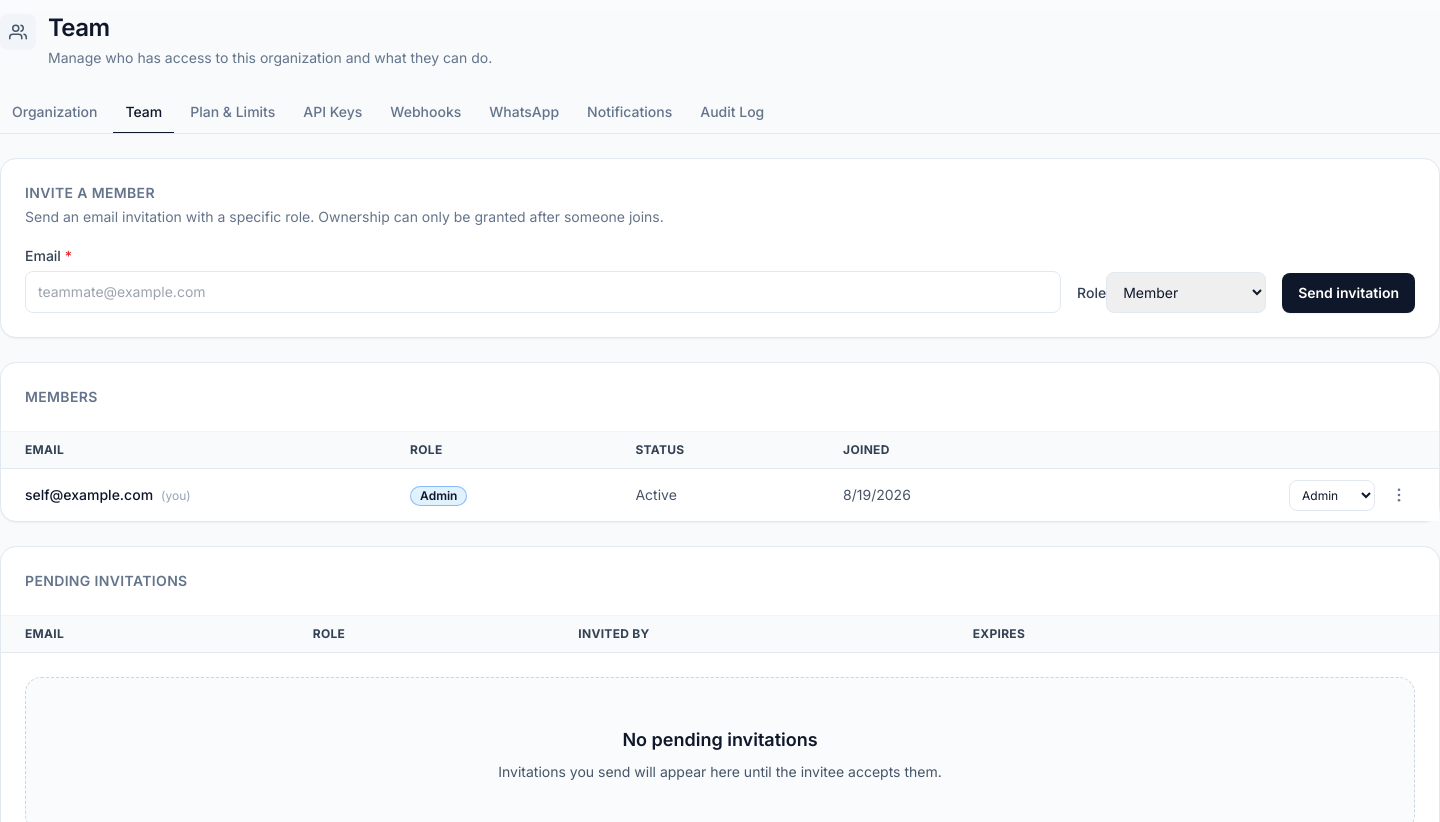
Test: Team page permission-gated rendering › admin (without organization.manage) sees role controls but no grant-ownership button
Expected: the text "self@example.com" is shown, x1=25 y1=486 x2=153 y2=503
Expected: the dropdown labelled "Role" is shown, x1=1106 y1=272 x2=1266 y2=313
Click the button named "More actions" at (1399, 495), box x1=1383 y1=479 x2=1415 y2=511
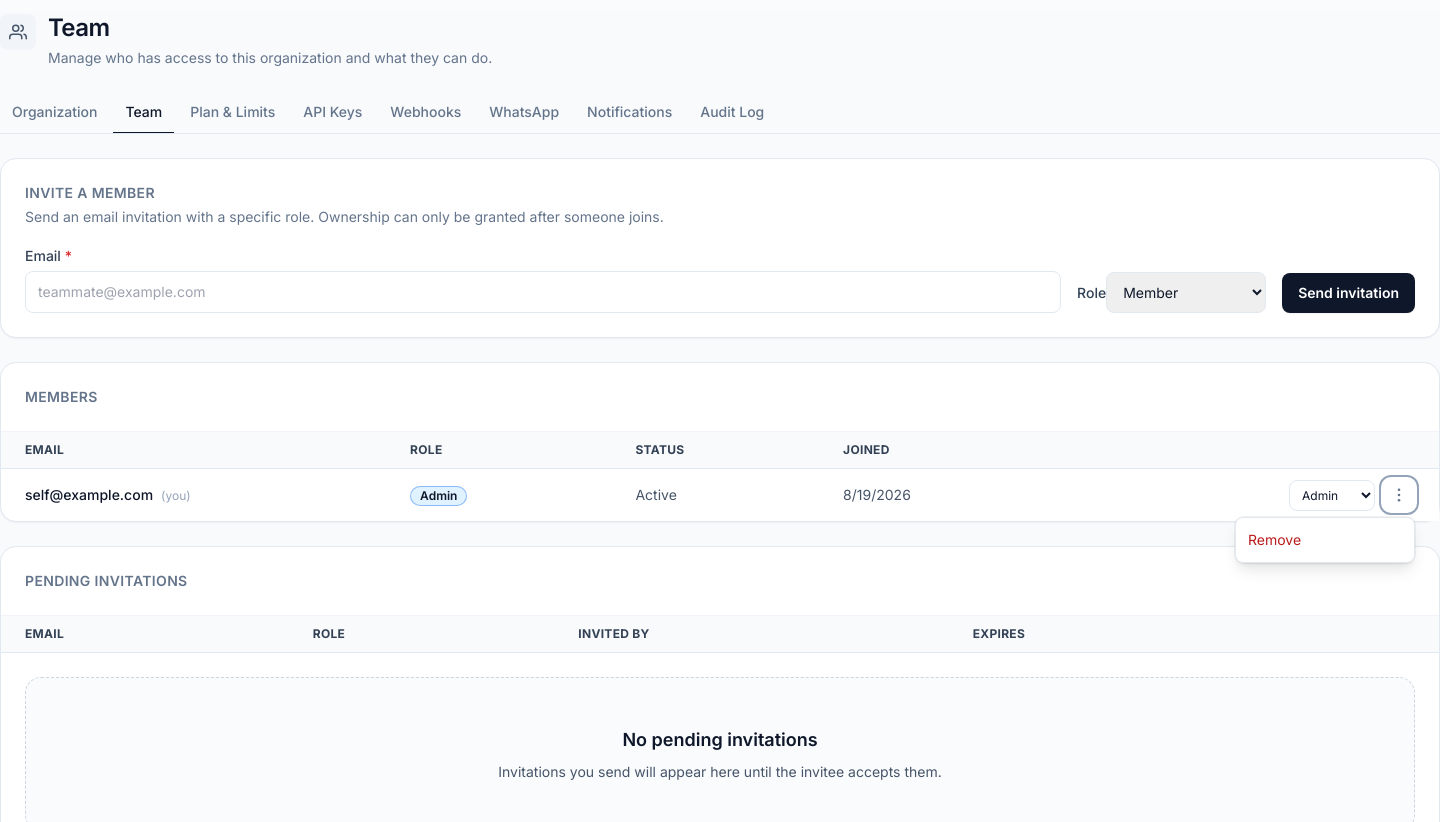
Expected: the menu item "Remove" is shown, x1=1236 y1=522 x2=1414 y2=558
